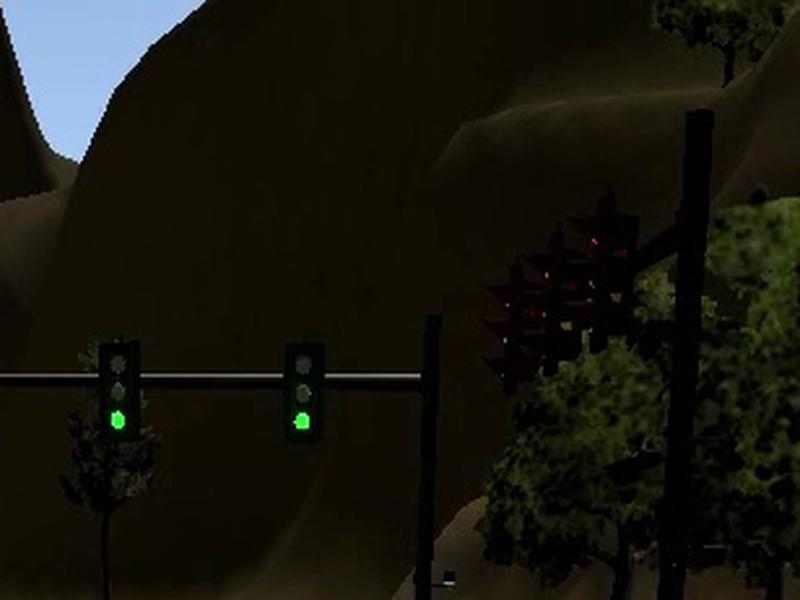Green: (97, 341, 140, 442), (283, 343, 325, 445)
